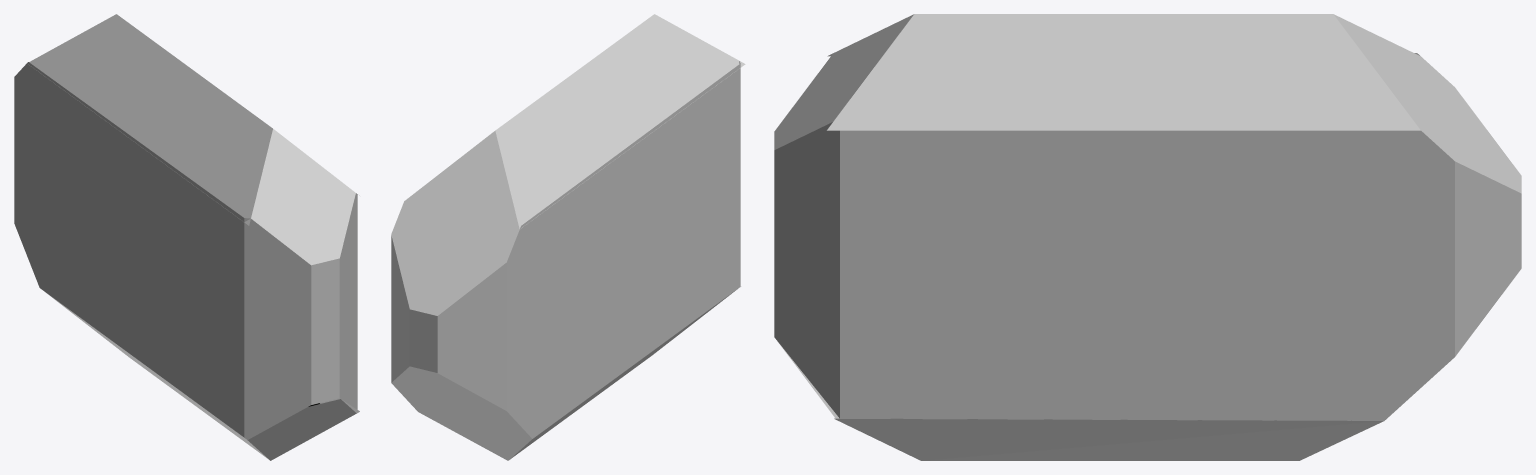
The model's file is SM_Fish_01.fbx.
3 renders of one model, left to right at view 1: azimuth 30°, elevation 25°; view 2: azimuth 150°, elevation 25°; view 3: azimuth 270°, elevation 25°, orthographic. The views are drawn at different scales.
Parts seen in each view (by area): view 1: SM_Fish_01_ConvexHulls; view 2: SM_Fish_01_ConvexHulls; view 3: SM_Fish_01_ConvexHulls.
Part boxes in pixels (left/top/right/bottom): SM_Fish_01_ConvexHulls: left=14, top=14, right=359, bottom=460; SM_Fish_01_ConvexHulls: left=391, top=14, right=745, bottom=460; SM_Fish_01_ConvexHulls: left=774, top=14, right=1521, bottom=460.
Bounding box in the file's own units: 3.25 × 13.83 × 9.13.
Materials: 2 (1 with a texture image).
